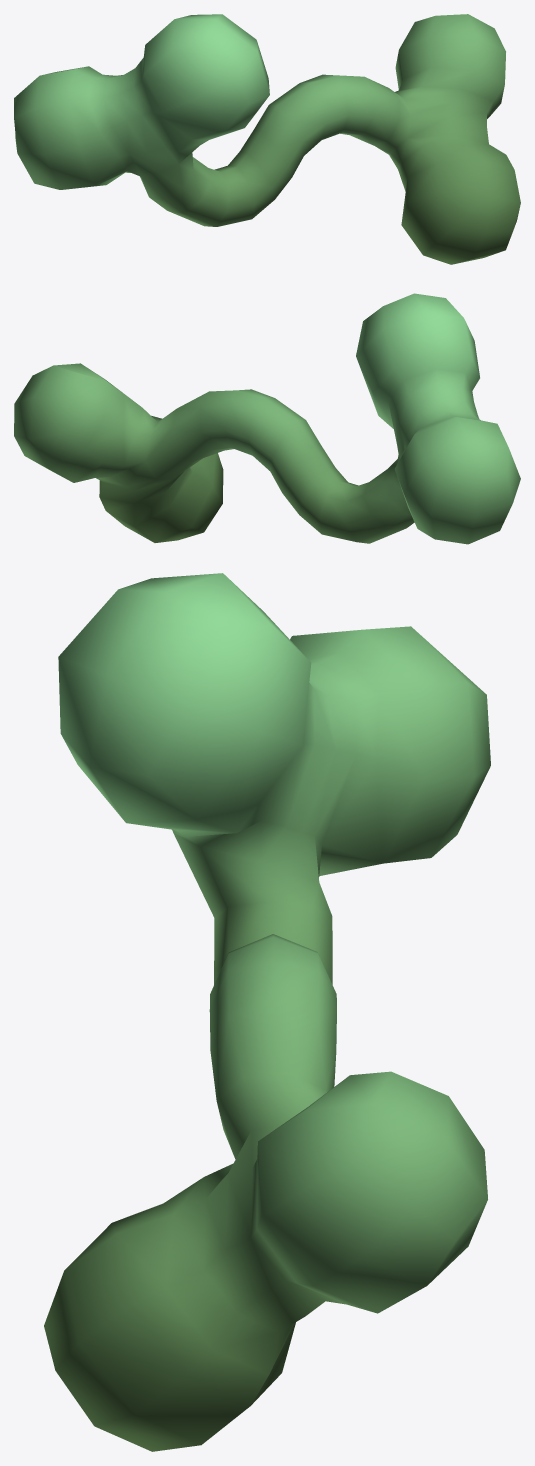
File: Hueso_A.fbx
3 views of the same model, one above another, from view 1: azimuth 30°, elevation 25°; view 2: azimuth 150°, elevation 25°; view 3: azimuth 270°, elevation 25° (orthographic). The views are drawn at different scales.
Parts seen in each view (by area): view 1: Hueso_A; view 2: Hueso_A; view 3: Hueso_A.
Boxes of the visible parts, box(x1,y1,x2,y2) form: Hueso_A: box(14, 14, 520, 264); Hueso_A: box(14, 293, 520, 544); Hueso_A: box(44, 573, 490, 1451).
Bounding box in the file's own units: 938 × 559 × 375.
